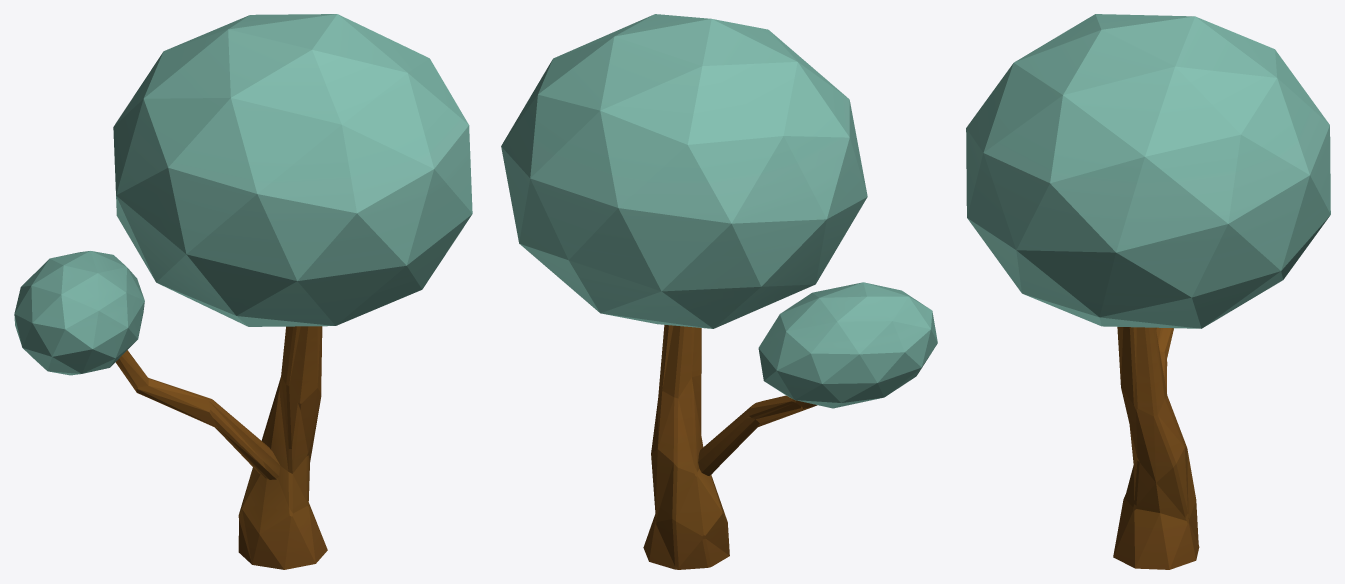
Rendered from tree_round.glb.
The picture shows the model from 3 angles, left to right: view 1: azimuth 30°, elevation 25°; view 2: azimuth 150°, elevation 25°; view 3: azimuth 270°, elevation 25°; orthographic projection.
Visible parts, largest first — view 1: Poplar Tree_1_AA; view 2: Poplar Tree_1_AA; view 3: Poplar Tree_1_AA.
Part boxes in pixels (box(x1,y1,x2,y2)): Poplar Tree_1_AA: box(14, 14, 472, 569); Poplar Tree_1_AA: box(501, 14, 937, 569); Poplar Tree_1_AA: box(966, 14, 1330, 569).
Bounding box in the file's own units: 2.96 × 3.53 × 2.23.
Materials: 1 (1 with a texture image).
